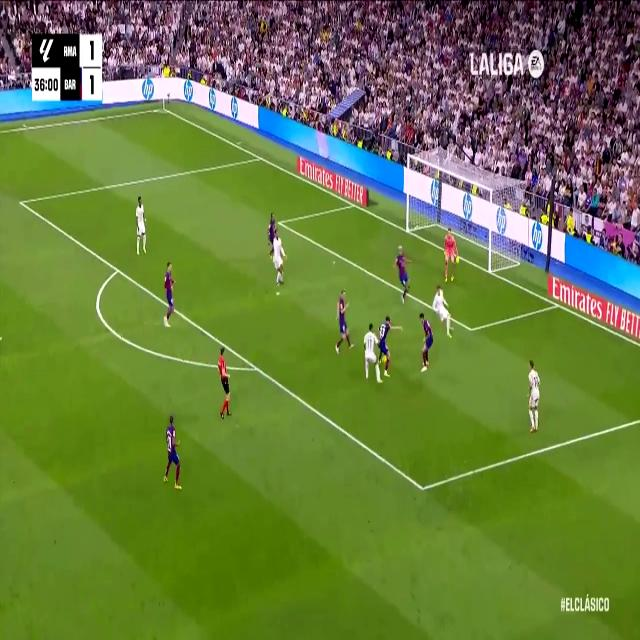bigarea_bottom_inner: (416, 472, 430, 504)
bigarea_top_inner: (16, 190, 26, 212)
bigarea_top_outter: (255, 148, 264, 165)
bottom_arc_area_intersection: (250, 354, 262, 380)
corner: (158, 102, 168, 115)
smallarea_bottom_inner: (466, 318, 476, 340)
smallarea_bottom_outter: (552, 296, 562, 312)
smallarea_top_inner: (275, 213, 284, 231)
top_arc_area_intersection: (114, 260, 122, 279)
